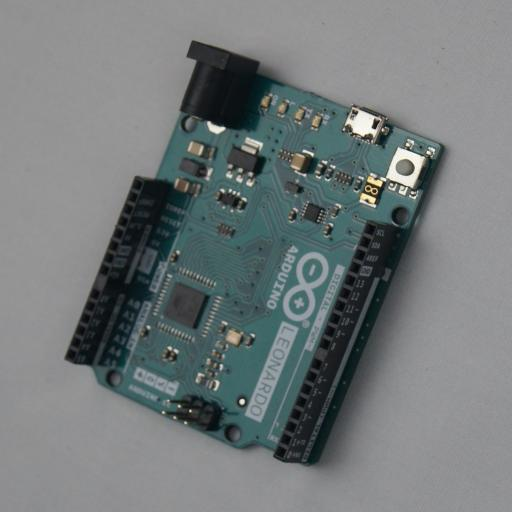Arduino Leonardo: (64, 40, 448, 469)
